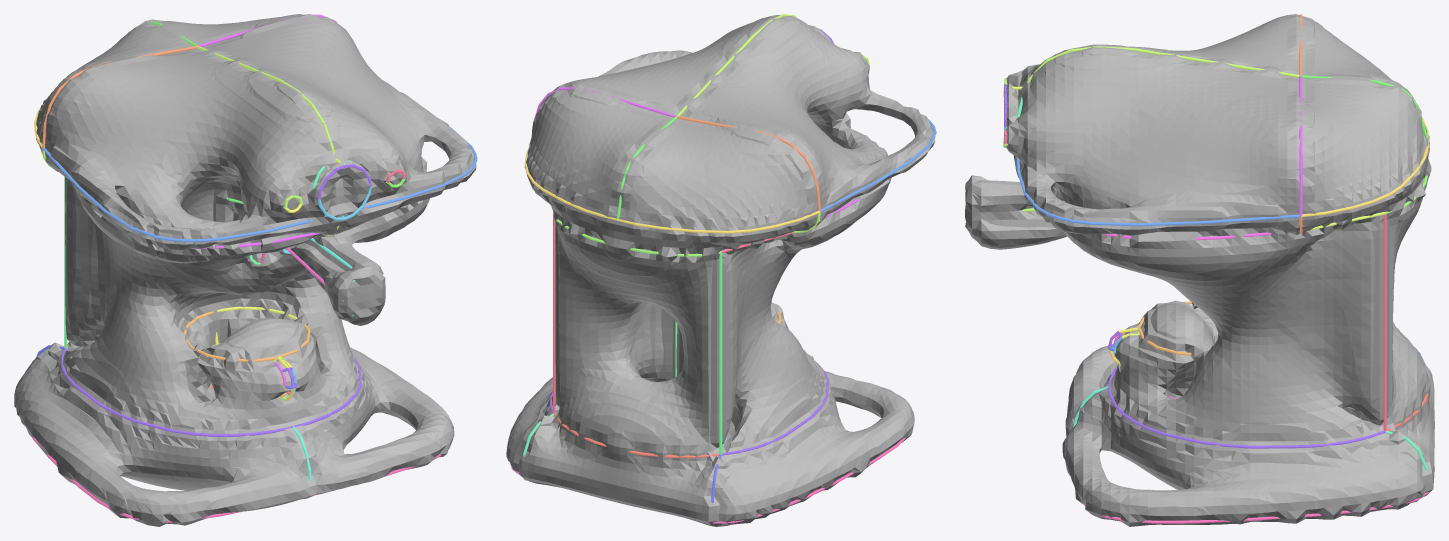
Rendered from flowsurf_expresso.gltf.
3 views of the same model, side by side, from view 1: azimuth 30°, elevation 25°; view 2: azimuth 150°, elevation 25°; view 3: azimuth 270°, elevation 25° (orthographic). The views are drawn at different scales.
Size of the model in its own units: 0.5352 by 0.6614 by 0.629.
